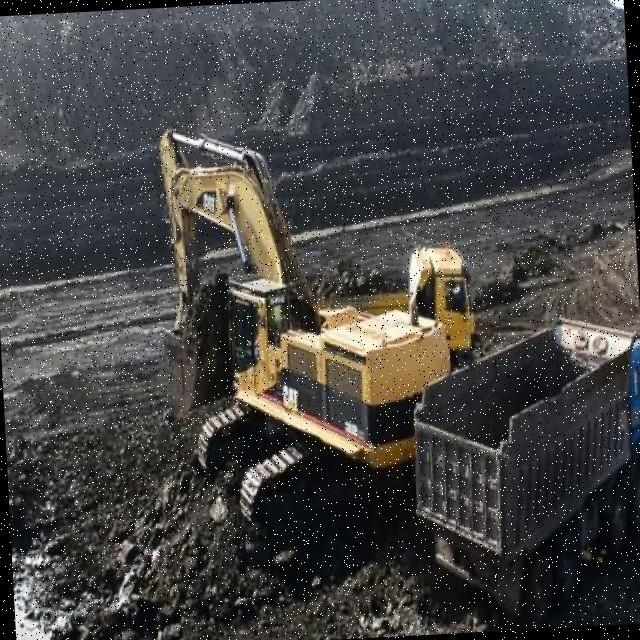Dump Truck: (404, 312, 640, 620), (304, 242, 480, 371)
Excavator: (150, 100, 450, 546)
